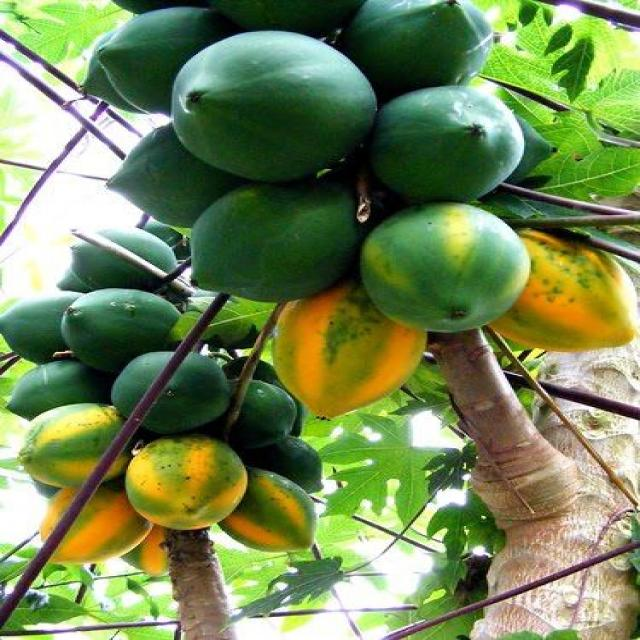Pepaya rippen: (363, 205, 532, 326), (263, 290, 420, 418), (516, 229, 636, 352), (130, 438, 244, 536), (227, 467, 333, 552), (12, 407, 123, 480), (34, 490, 132, 570)
Pepaya unrippen: (160, 32, 374, 178), (169, 191, 343, 297), (382, 81, 528, 193), (50, 289, 179, 347), (131, 347, 229, 418), (70, 226, 177, 282)
